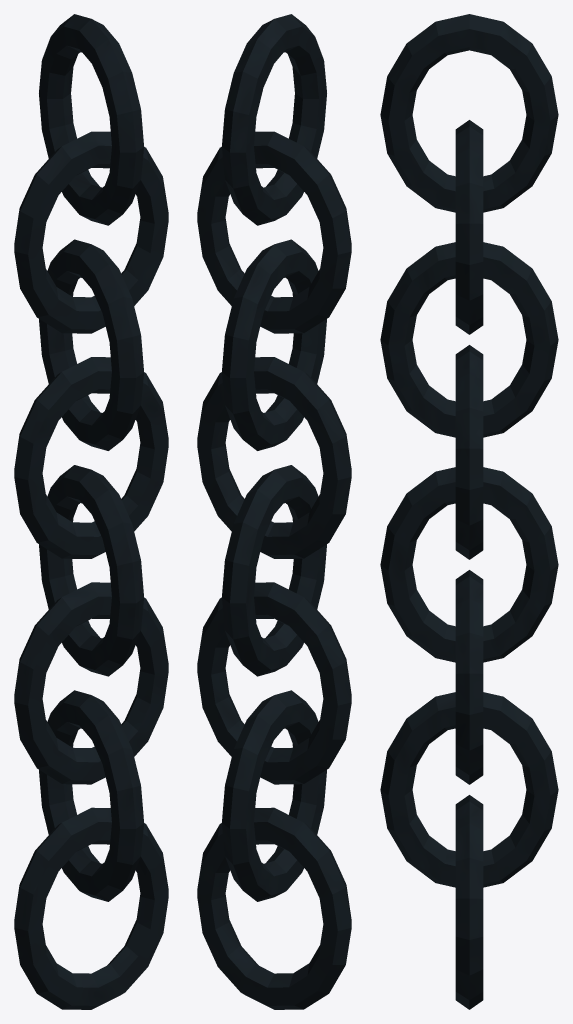
The model's file is hanging_chain.glb.
3 views of the same model, side by side, from view 1: azimuth 30°, elevation 25°; view 2: azimuth 150°, elevation 25°; view 3: azimuth 270°, elevation 25° (orthographic).
Visible parts, largest first — view 1: hanging_chain; view 2: hanging_chain; view 3: hanging_chain.
Part boxes in pixels (left/top/right/bottom): hanging_chain: left=14, top=14, right=168, bottom=1009; hanging_chain: left=197, top=14, right=351, bottom=1009; hanging_chain: left=380, top=14, right=558, bottom=1009.
Bounding box in the file's own units: 0.244 × 1.5 × 0.244.
Materials: 1 (1 with a texture image).
